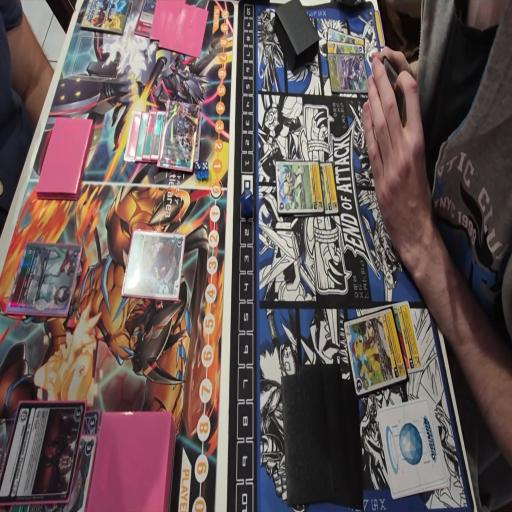card: (0, 401, 86, 501), (343, 305, 408, 391), (5, 246, 83, 314), (122, 232, 186, 299), (157, 103, 200, 166), (274, 162, 320, 219), (66, 432, 96, 512), (392, 297, 424, 372), (328, 56, 366, 94), (123, 110, 144, 161), (320, 163, 340, 216), (326, 24, 366, 49), (142, 111, 160, 163), (135, 108, 150, 160), (151, 110, 166, 160), (80, 408, 101, 437), (327, 42, 364, 56)
